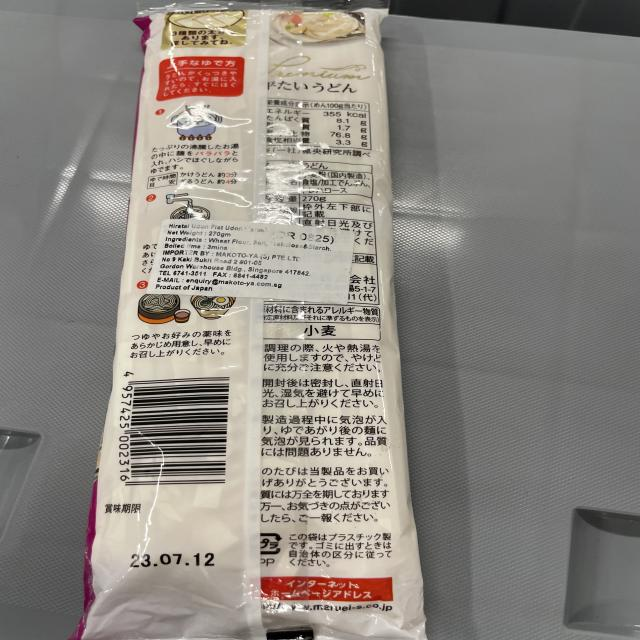object_name: (111, 4, 419, 640)
